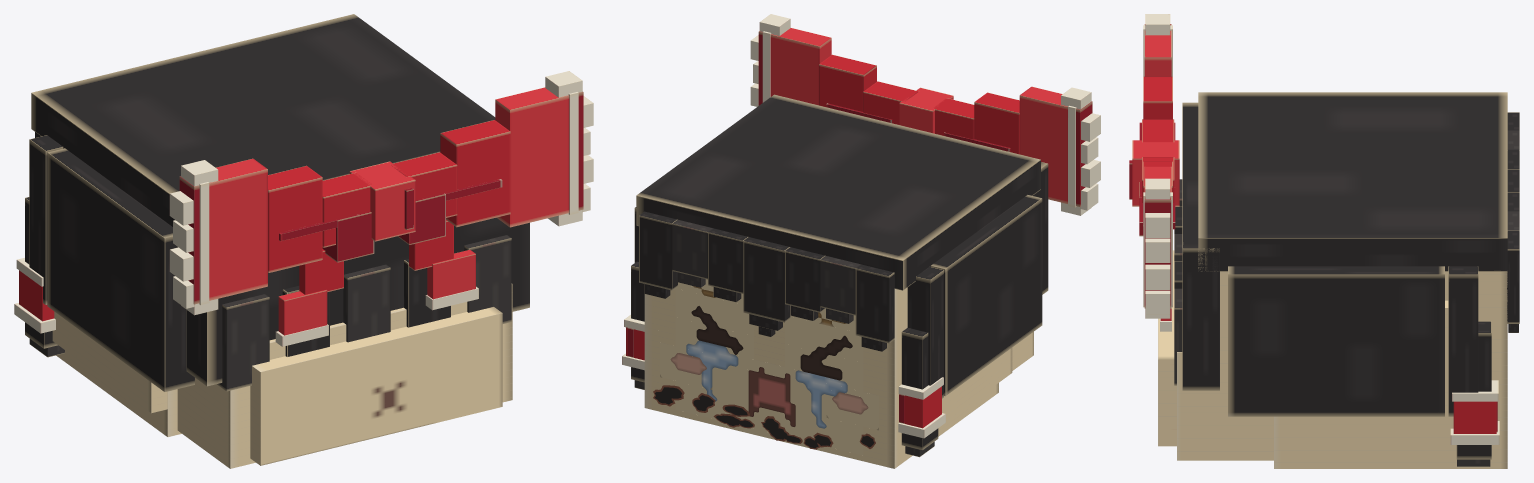
File: scorch_reimu_2.obj
3 renders of one model, left to right at view 1: azimuth 30°, elevation 25°; view 2: azimuth 150°, elevation 25°; view 3: azimuth 270°, elevation 25°, orthographic. The views are drawn at different scales.
Visible parts, largest first — view 1: scorch_reimu_2; view 2: scorch_reimu_2; view 3: scorch_reimu_2.
Boxes of the visible parts, left/top/right/bottom form: scorch_reimu_2: left=14, top=14, right=593, bottom=468; scorch_reimu_2: left=622, top=14, right=1100, bottom=468; scorch_reimu_2: left=1129, top=14, right=1519, bottom=468.
Size of the model in its own units: 16.28 by 12.24 by 14.49.
1 material, 1 textured.
